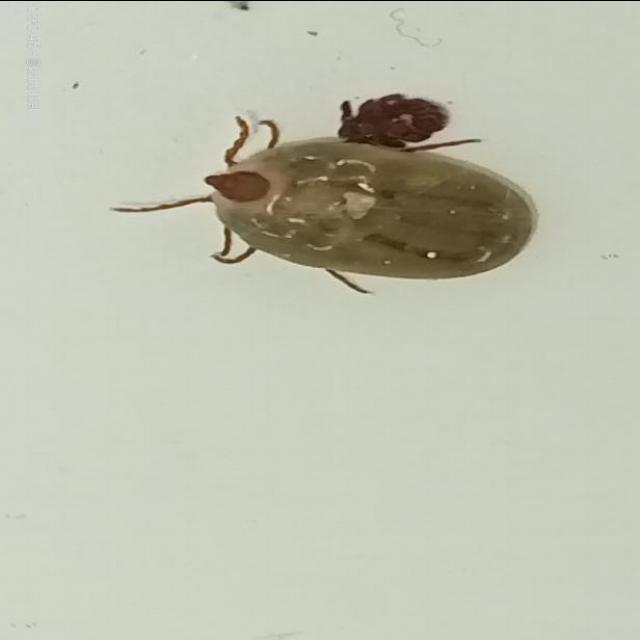Rhipicephalus Sanguineus-F-Fed: (106, 115, 538, 293)
